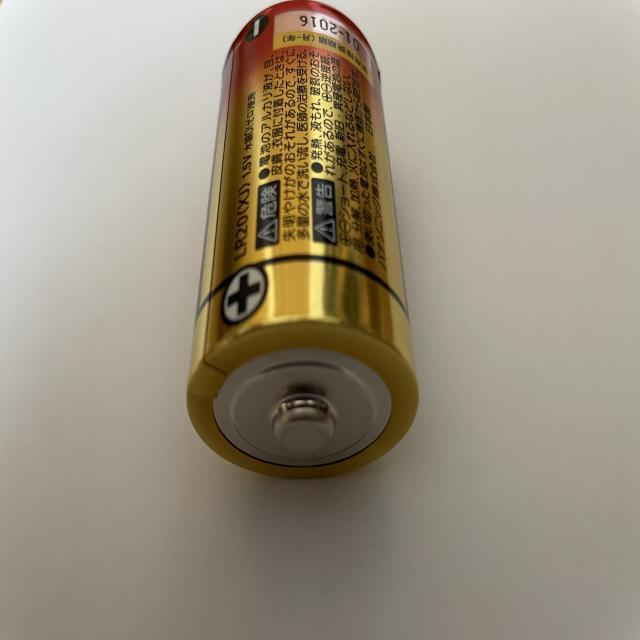Hazard: (184, 1, 422, 494)
